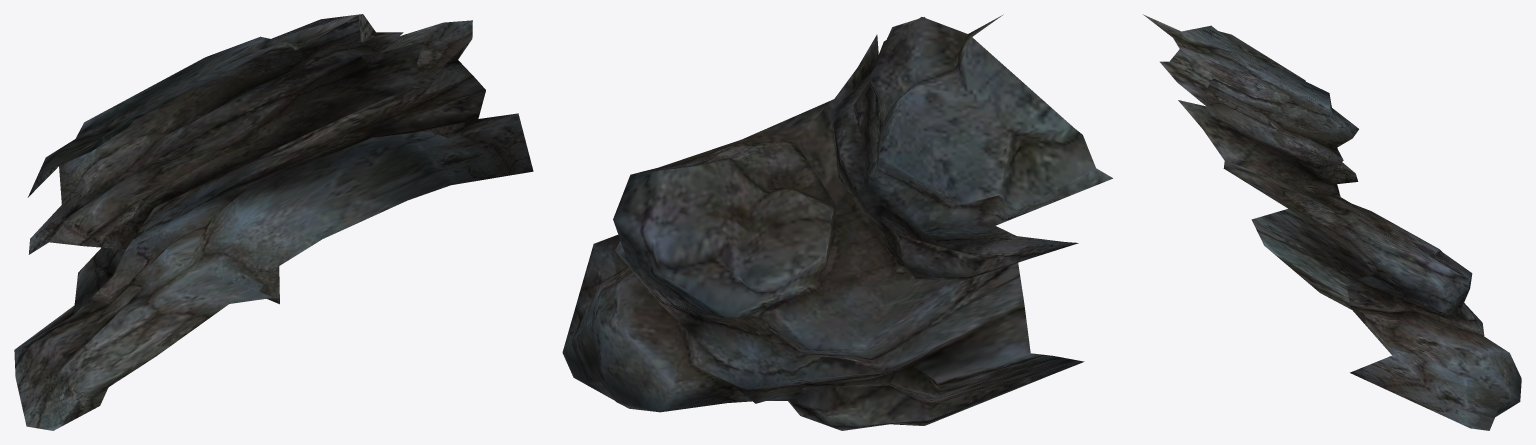
Rendered from S_Rock_Yellow034_H16.FBX.
3 views of the same model, side by side, from view 1: azimuth 30°, elevation 25°; view 2: azimuth 150°, elevation 25°; view 3: azimuth 270°, elevation 25° (orthographic). The views are drawn at different scales.
Parts seen in each view (by area): view 1: S_Rock_Yellow034_H16; view 2: S_Rock_Yellow034_H16; view 3: S_Rock_Yellow034_H16.
Part boxes in pixels (x1,y1,x2,y2): S_Rock_Yellow034_H16: (14,14,533,430); S_Rock_Yellow034_H16: (562,14,1112,430); S_Rock_Yellow034_H16: (1143,14,1521,430).
Bounding box in the file's own units: 1031 × 790 × 722.
1 material, 1 textured.
